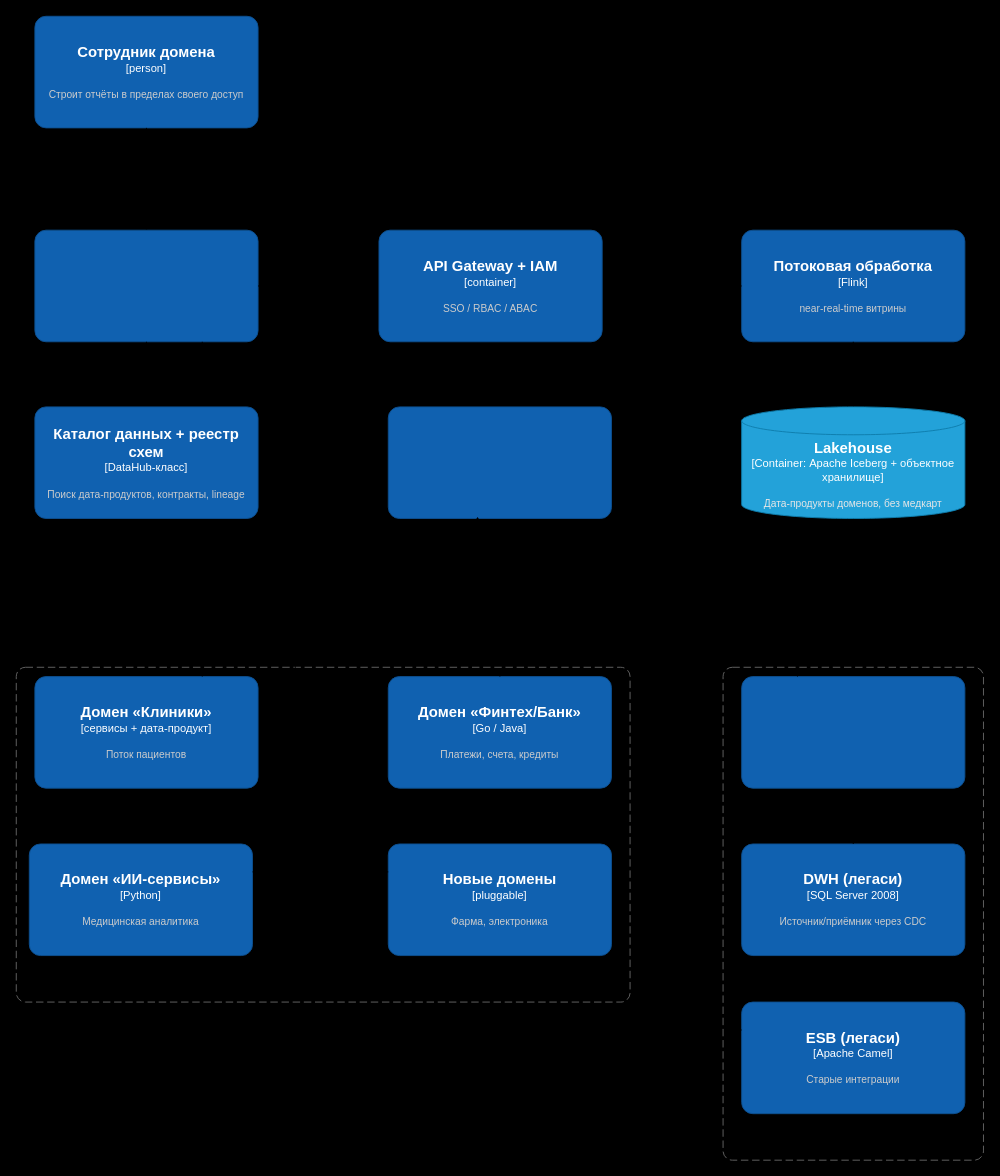
The diagram is 1000 pixels wide and 1176 high, and some of its shapes have lost their labels. The shapes that lost their labels are listed below. From the top down, each one's box as (x1, y1, x2, y2) in pixels, then its label:
(34, 229, 258, 342): Портал самообслуживания [container] SPA + API
(387, 406, 611, 518): Событийная шина [kafka] Асинхронные события и реактивные потоки
(741, 676, 965, 788): Антикоррупционные слои [ACL] Изоляция DWH и ESB
(15, 666, 630, 1002): Домены [Data mesh]
(722, 666, 983, 1160): Легаси-мосты [на время миграции]
